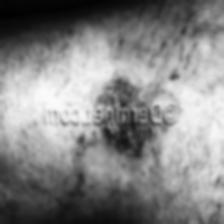Non-Cancerous Skin Condition: (100, 77, 154, 150)
